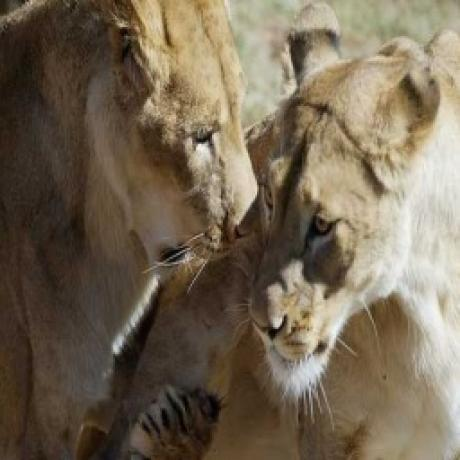Lion: (0, 0, 259, 460), (244, 0, 460, 460)
